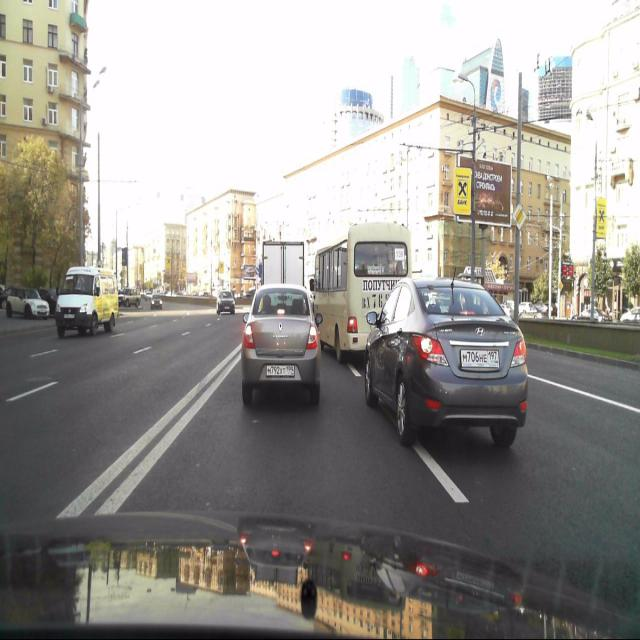road sign: (511, 201, 527, 230)
